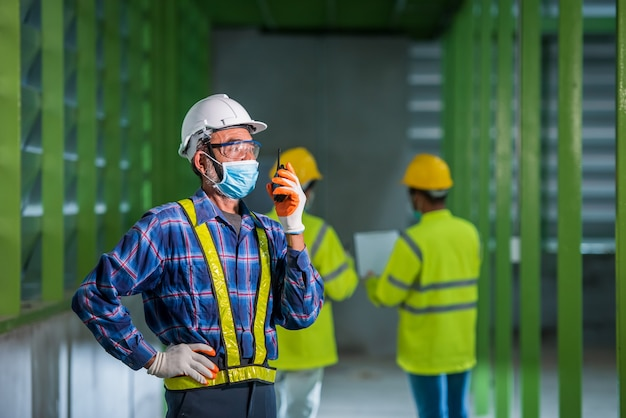Helmet: (175, 91, 270, 157), (261, 145, 325, 192), (399, 148, 455, 196)
Mask: (214, 160, 266, 200)
Safety_Jacket: (156, 190, 287, 390), (363, 202, 490, 376), (259, 207, 360, 374)
